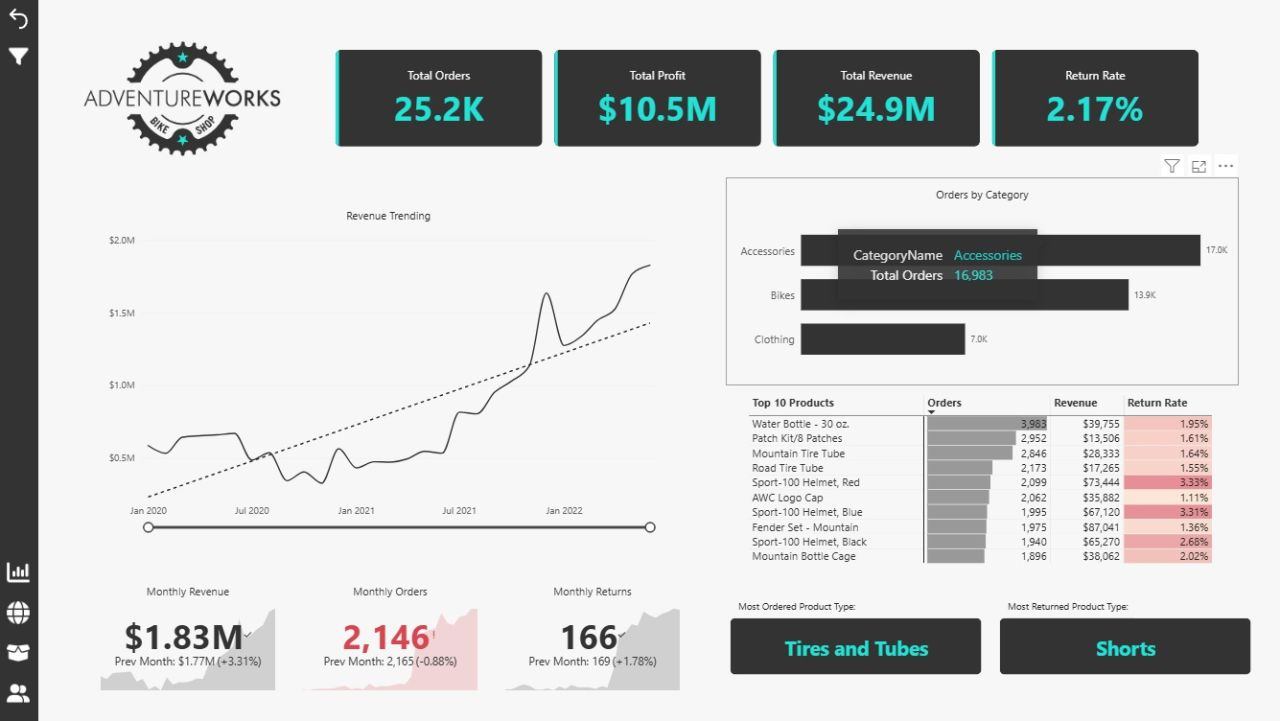

What the dashboard file says about the page in this screenshot:
{"tool":"powerbi","page":{"name":"Exec Dashboard","canvas":[1920,1080],"ordinal":0},"visuals":[{"type":"image","title":"AW Logo","box":[95.7,1.4,358.6,297.1],"z":0},{"type":"actionButton","box":[0,1005,60,60],"z":0,"group":"g1"},{"type":"shape","title":"Left Nav bg","box":[0,0,60,1080],"z":1000},{"type":"actionButton","box":[0,945,60,60],"z":1000,"group":"g1"},{"type":"actionButton","box":[0,885,60,60],"z":2000,"group":"g1"},{"type":"actionButton","box":[0,825,60,60],"z":3000,"group":"g1"},{"type":"lineChart","title":"Revenue Trending","fields":{"Category":["Calendar Lookup.Year","Calendar Lookup.Start of Quarter","Calendar Lookup.Start of Month"],"Y":["Measures Table.Total Revenue"]},"box":[148.3,298.3,866.7,511.7],"z":4000},{"type":"kpi","title":"Monthly Revenue","fields":{"Goal":["Measures Table.Previous Month Revenue"],"Indicator":["Measures Table.Total Revenue"],"TrendLine":["Calendar Lookup.Start of Month"]},"box":[152.9,858.6,260,172.9],"z":5000},{"type":"kpi","title":"Monthly Returns","fields":{"Goal":["Measures Table.Previous Month Returns"],"Indicator":["Measures Table.Total Returns"],"TrendLine":["Calendar Lookup.Start of Month"]},"box":[755,858.6,260,172.9],"z":6000},{"type":"kpi","title":"Monthly Orders","fields":{"Goal":["Measures Table.Previous Month Orders"],"Indicator":["Measures Table.Total Orders"],"TrendLine":["Calendar Lookup.Start of Month"]},"box":[453.9,858.6,260,172.9],"z":7000},{"type":"clusteredBarChart","title":"Orders by Category","fields":{"Category":["Product Categories Lookup.CategoryName"],"Y":["Measures Table.Total Orders"]},"box":[1084.3,267.1,764.3,310],"z":8000},{"type":"pivotTable","fields":{"Rows":["Product Lookup.ProductName"],"Values":["Measures Table.Total Orders","Measures Table.Total Revenue","Measures Table.Return Rate"]},"box":[1102.9,577.1,745.7,282.9],"z":9000},{"type":"cardVisual","fields":{"Data":["Min(Product Subcategories Lookup.SubcategoryName)"]},"box":[1090,923.3,376.7,86.7],"z":10000},{"type":"cardVisual","fields":{"Data":["Min(Product Subcategories Lookup.SubcategoryName)"]},"box":[1491.7,923.3,376.7,86.7],"z":11000},{"type":"textbox","box":[1102.5,895,188.8,28.8],"z":12000},{"type":"textbox","box":[1503.8,895,188.8,28.8],"z":13000},{"type":"actionButton","box":[0,0,60,60],"z":14000},{"type":"group","id":"g1","title":"Nav Buttons","box":[0,825,60,240],"z":15000},{"type":"actionButton","box":[0,64.3,60,44.3],"z":16000},{"type":"cardVisual","fields":{"Data":["Measures Table.Total Orders","Measures Table.Total Profit","Measures Table.Total Revenue","Measures Table.Return Rate"]},"box":[502.9,77.1,1287.1,144.3],"z":18000}]}

Visuals, with their boxes on the page's 1920x1080 design canvas (x1, y1, x2, y2). These are canvas units, not pixel positions in the 1280x721 screenshot, which may show the page scaled, cropped or inside an application window:
"AW Logo" image: x1=96 y1=1 x2=454 y2=298
actionButton: x1=0 y1=1005 x2=60 y2=1065
"Left Nav bg" shape: x1=0 y1=0 x2=60 y2=1080
actionButton: x1=0 y1=945 x2=60 y2=1005
actionButton: x1=0 y1=885 x2=60 y2=945
actionButton: x1=0 y1=825 x2=60 y2=885
"Revenue Trending" lineChart: x1=148 y1=298 x2=1015 y2=810
"Monthly Revenue" kpi: x1=153 y1=859 x2=413 y2=1032
"Monthly Returns" kpi: x1=755 y1=859 x2=1015 y2=1032
"Monthly Orders" kpi: x1=454 y1=859 x2=714 y2=1032
"Orders by Category" clusteredBarChart: x1=1084 y1=267 x2=1849 y2=577
pivotTable - Product Lookup.ProductName x Measures Table.Total Orders: x1=1103 y1=577 x2=1849 y2=860
cardVisual - Min(Product Subcategories Lookup.SubcategoryName): x1=1090 y1=923 x2=1467 y2=1010
cardVisual - Min(Product Subcategories Lookup.SubcategoryName): x1=1492 y1=923 x2=1868 y2=1010
textbox: x1=1102 y1=895 x2=1291 y2=924
textbox: x1=1504 y1=895 x2=1693 y2=924
actionButton: x1=0 y1=0 x2=60 y2=60
"Nav Buttons" group: x1=0 y1=825 x2=60 y2=1065
actionButton: x1=0 y1=64 x2=60 y2=109
cardVisual - Measures Table.Total Orders x Measures Table.Total Profit: x1=503 y1=77 x2=1790 y2=221
